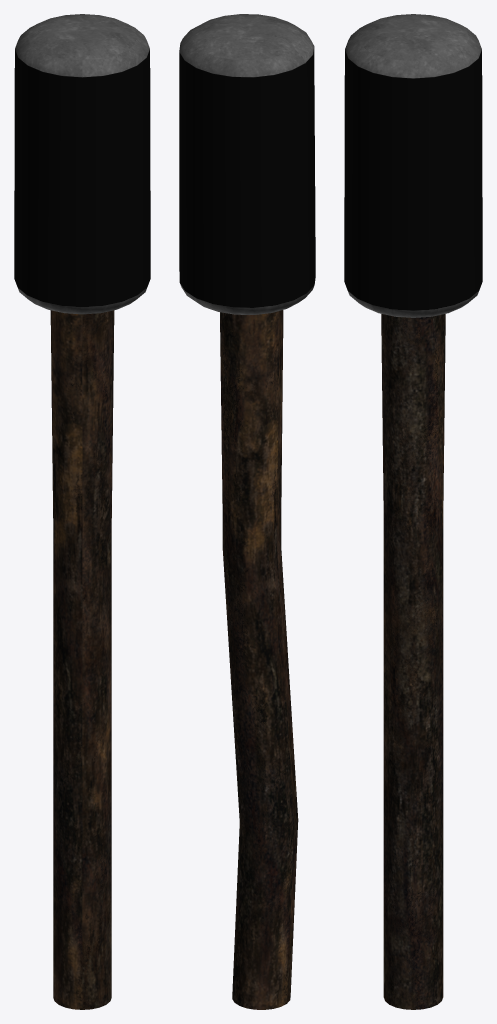
File: Tocha Texturizada.fbx
3 views of the same model, side by side, from view 1: azimuth 90°, elevation 25°; view 2: azimuth 150°, elevation 25°; view 3: azimuth 270°, elevation 25° (orthographic).
Parts seen in each view (by area): view 1: Tocha; view 2: Tocha; view 3: Tocha.
Part boxes in pixels (x1,y1,x2,y2): Tocha: (14, 14, 150, 1009); Tocha: (179, 14, 315, 1009); Tocha: (344, 14, 482, 1009).
Size of the model in its own units: 3.05 by 23.63 by 3.04.
Materials: 1 (1 with a texture image).
